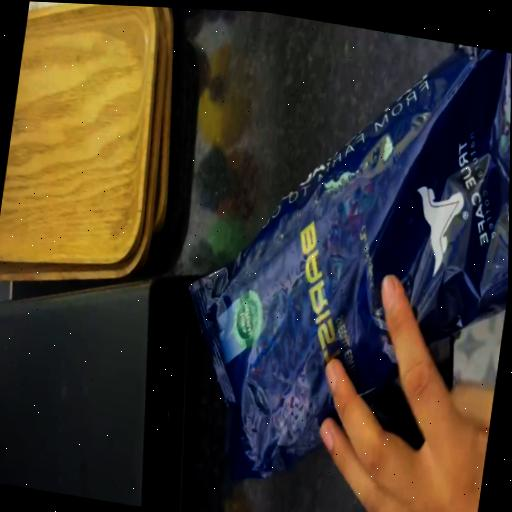cafe_hat: (190, 46, 512, 477)
